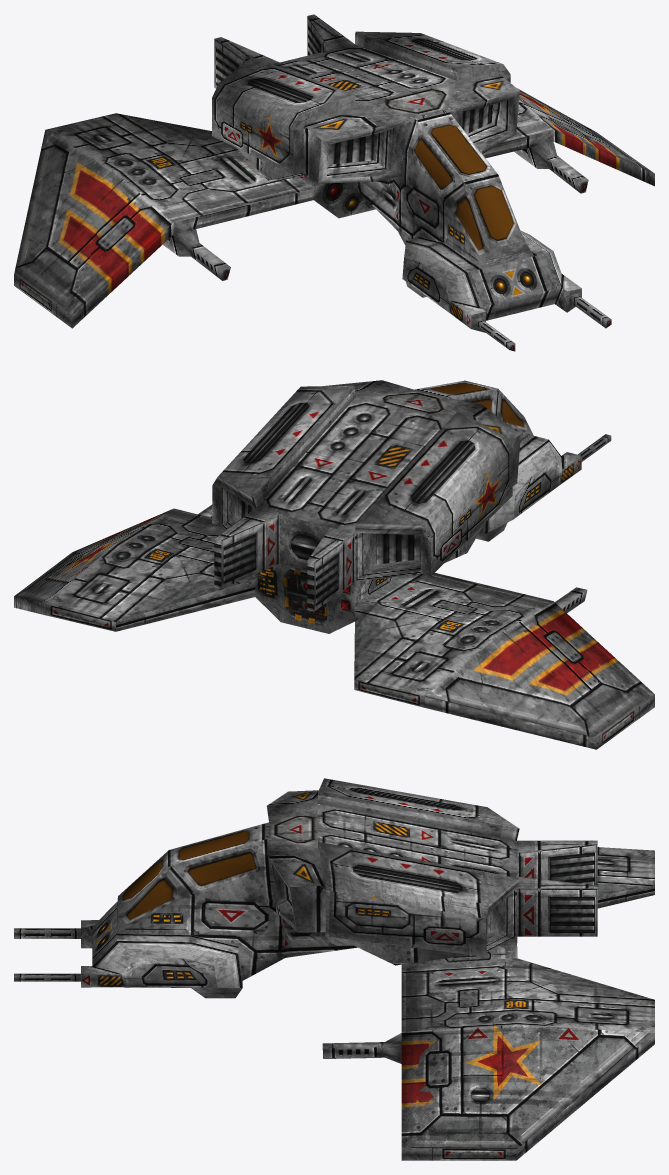
File: salin.glb
3 views of the same model, one above another, from view 1: azimuth 30°, elevation 25°; view 2: azimuth 150°, elevation 25°; view 3: azimuth 270°, elevation 25° (orthographic).
Visible parts, largest first — view 1: Salin; view 2: Salin; view 3: Salin.
Boxes of the visible parts, left/top/right/bottom form: Salin: left=14, top=14, right=654, bottom=351; Salin: left=14, top=380, right=654, bottom=749; Salin: left=14, top=778, right=654, bottom=1160.
Size of the model in its own units: 769 by 261 by 743.
Materials: 1 (1 with a texture image).
